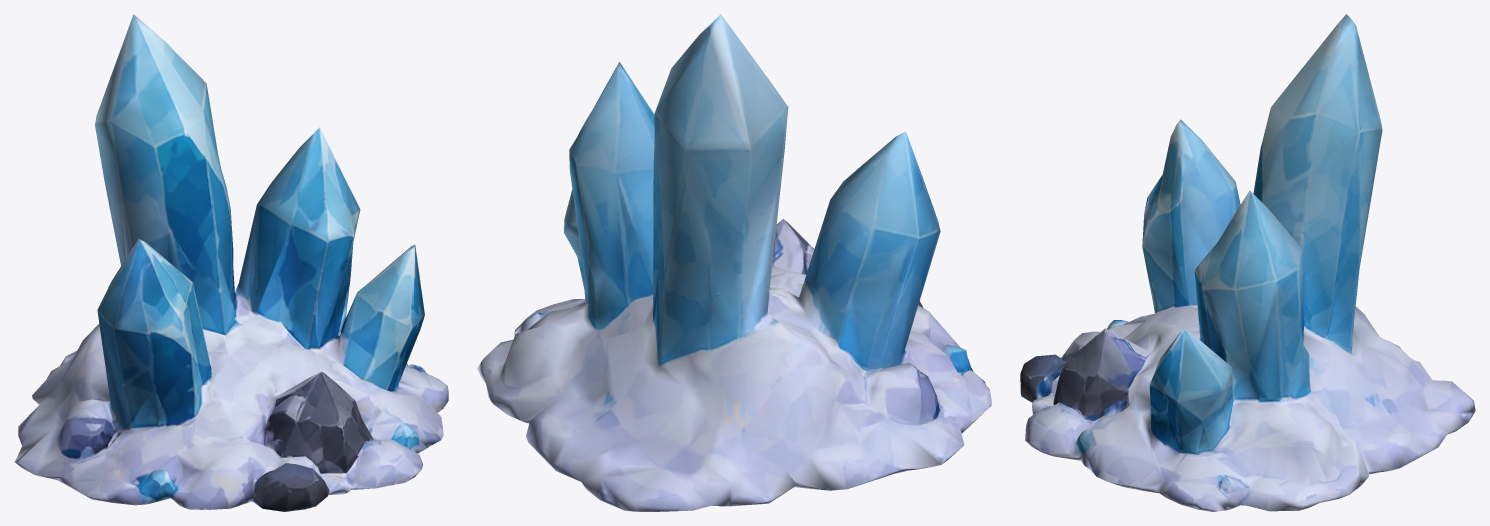
File: dec_ice_spike.glb
3 views of the same model, side by side, from view 1: azimuth 30°, elevation 25°; view 2: azimuth 150°, elevation 25°; view 3: azimuth 270°, elevation 25° (orthographic). The views are drawn at different scales.
Visible parts, largest first — view 1: BakeLow; view 2: BakeLow; view 3: BakeLow.
Part boxes in pixels (<box>): BakeLow: <box>14,14,448,511</box>; BakeLow: <box>477,14,991,511</box>; BakeLow: <box>1020,14,1475,511</box>.
Size of the model in its own units: 0.7999 by 0.75 by 0.796.
1 material, 1 textured.
